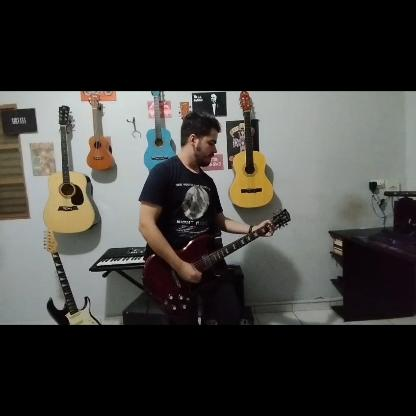acousticguitar: (44, 104, 96, 234), (228, 92, 272, 210), (144, 93, 174, 171)
guitar: (140, 209, 290, 315), (44, 226, 102, 326)
